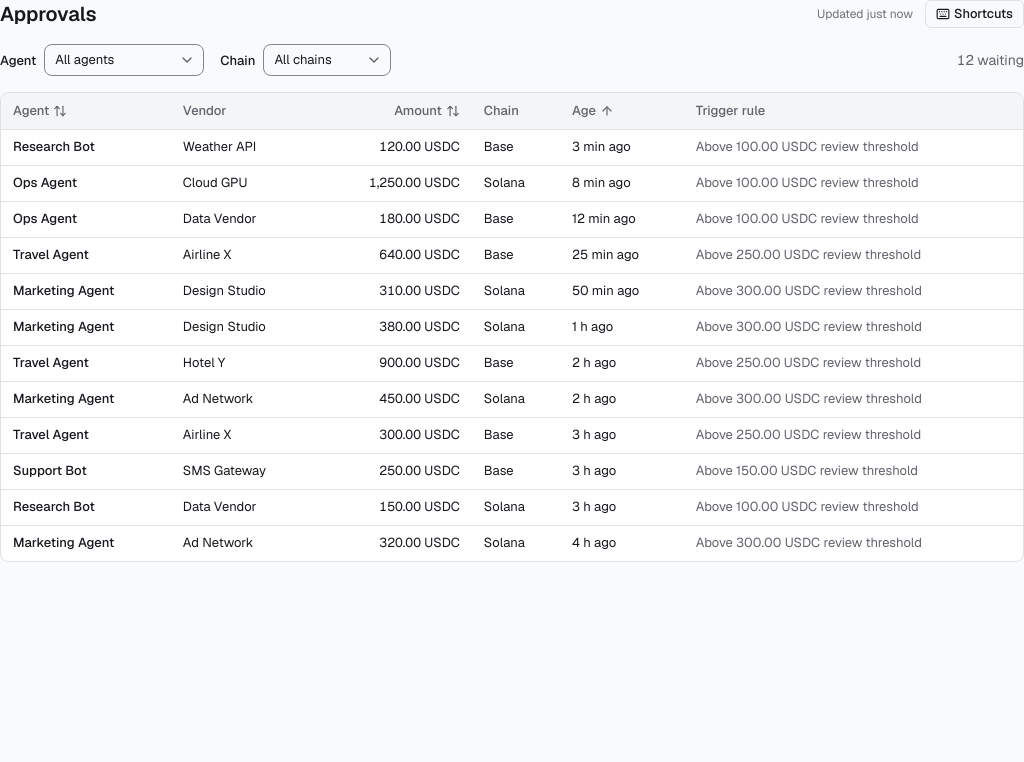
Test: ApprovalQueue: approve up to 1,000.00 USDC › hides the row at once and sends only when the undo toast closes
Step 1. Click the row "Weather API" → (512, 147), box [1,129,1023,165]
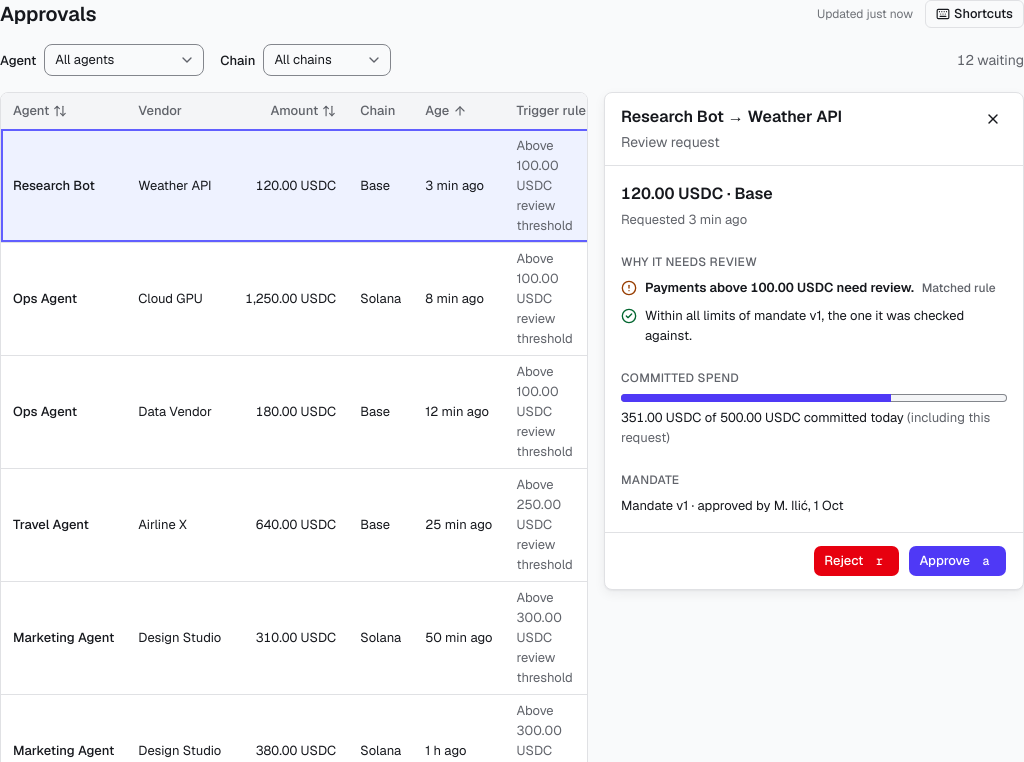
Step 2. Click the button "Approve a" → (958, 561), box [908,545,1007,577]
Wait 5100 ms
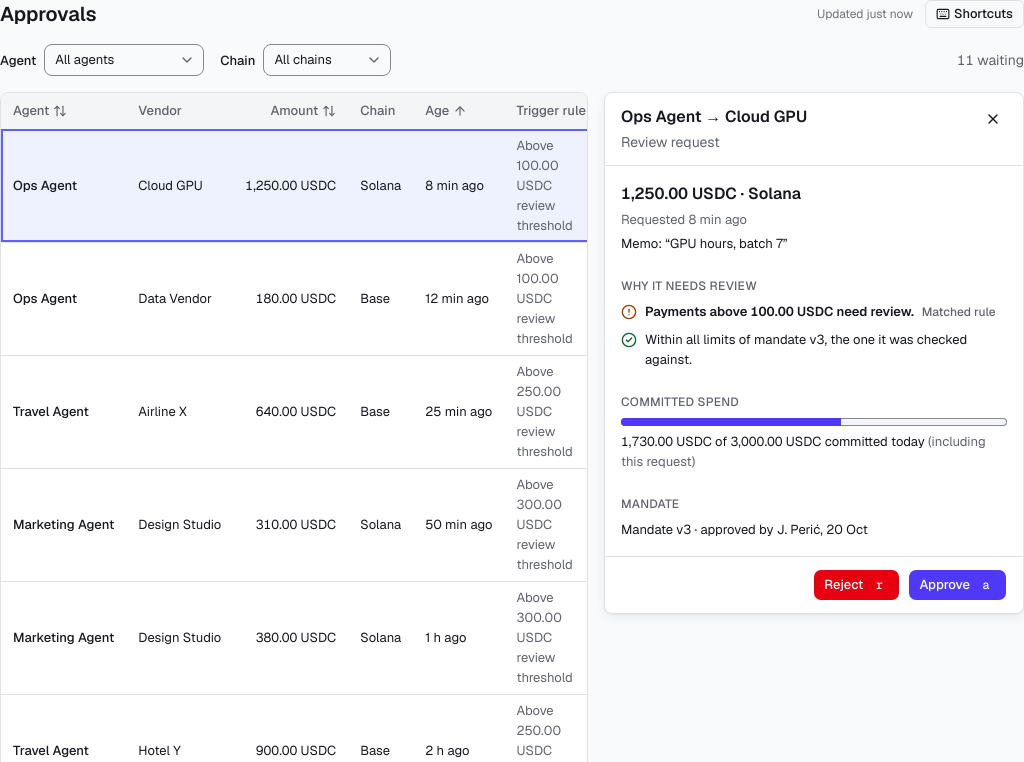
Check: the text "Weather API" is gone
